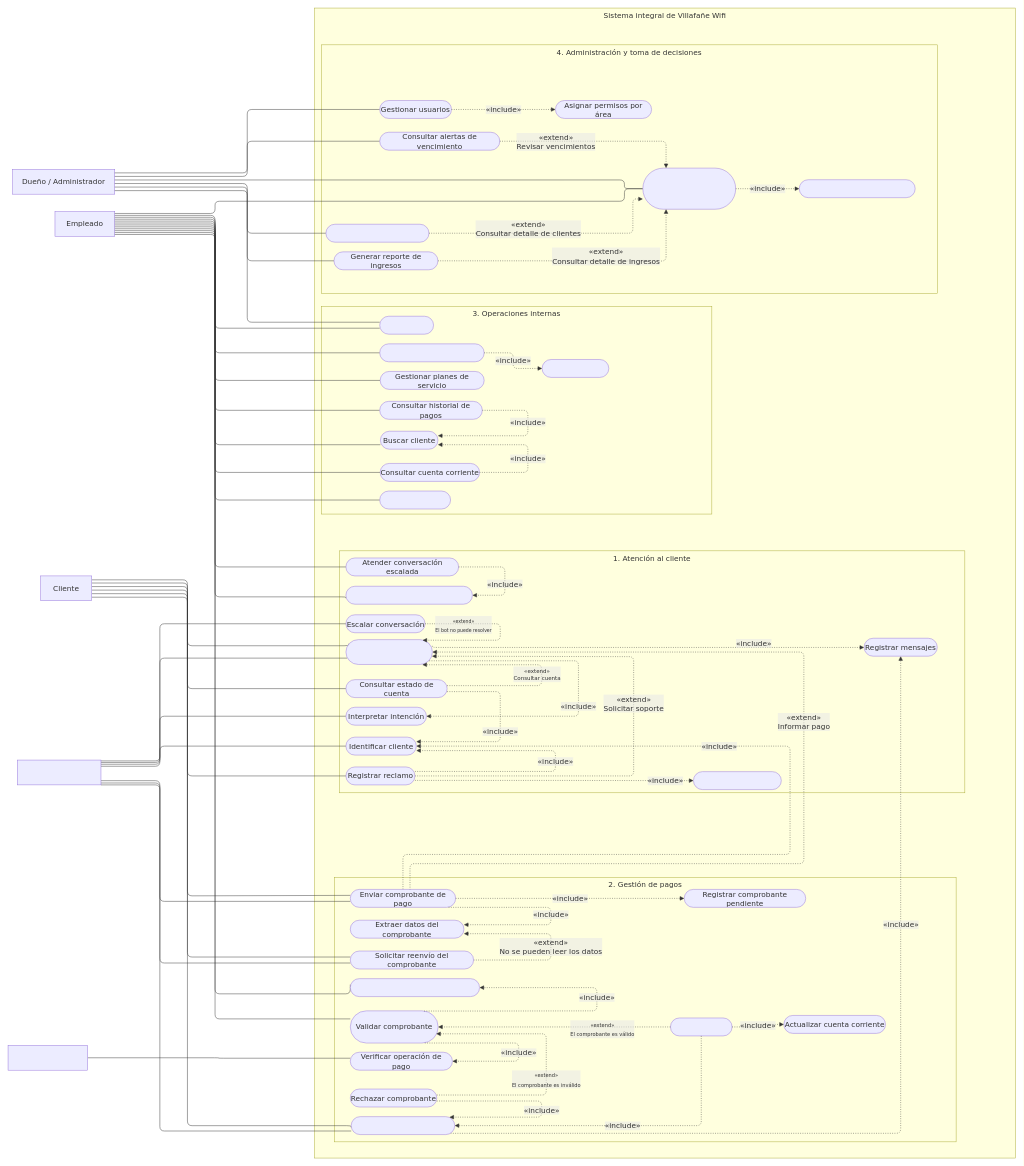
Image size: 1024x1166. Some labels were removed from this diagram. The shapes that lost their labels are listed below. From the top down, each one's centre as x and y in pixels, then its label:
(x=689, y=188): Consultar dashboard
(x=857, y=188): Consultar indicadores generales
(x=377, y=233): Generar reporte de clientes
(x=406, y=325): Iniciar sesión
(x=431, y=352): Gestionar tickets de soporte
(x=575, y=368): Consultar tickets
(x=415, y=500): Gestionar clientes
(x=408, y=595): Consultar historial de conversación
(x=388, y=651): Iniciar conversación
(x=59, y=772): Bot de WhatsApp
(x=737, y=780): Crear ticket de soporte
(x=415, y=987): Consultar comprobantes pendientes
(x=701, y=1027): Confirmar pago
(x=48, y=1057): Billetera virtual
(x=403, y=1125): Notificar resultado del pago
